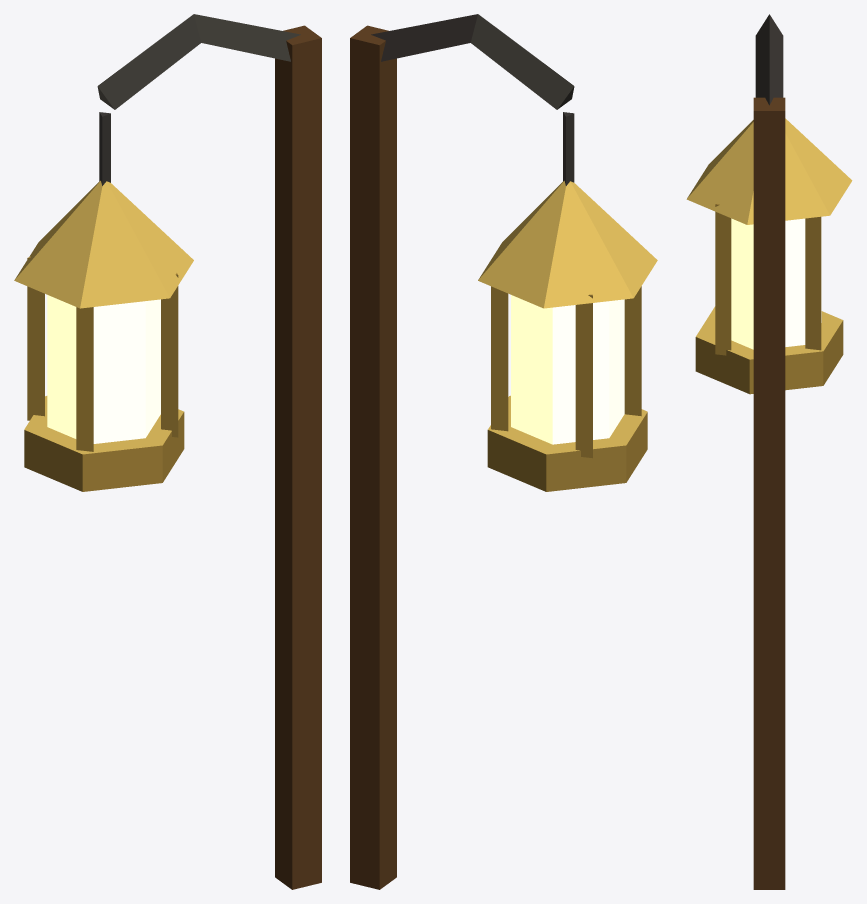
Rendered from gd_sailboat_lantern.glb.
3 renders of one model, left to right at view 1: azimuth 30°, elevation 25°; view 2: azimuth 150°, elevation 25°; view 3: azimuth 270°, elevation 25°, orthographic. The views are drawn at different scales.
Parts seen in each view (by area): view 1: base; view 2: base; view 3: base.
Boxes of the visible parts, x1=… form: base: x1=14, y1=14, x2=321, y2=889; base: x1=350, y1=14, x2=657, y2=889; base: x1=686, y1=14, x2=852, y2=889.
Size of the model in its own units: 0.096 by 0.285 by 0.0522.
